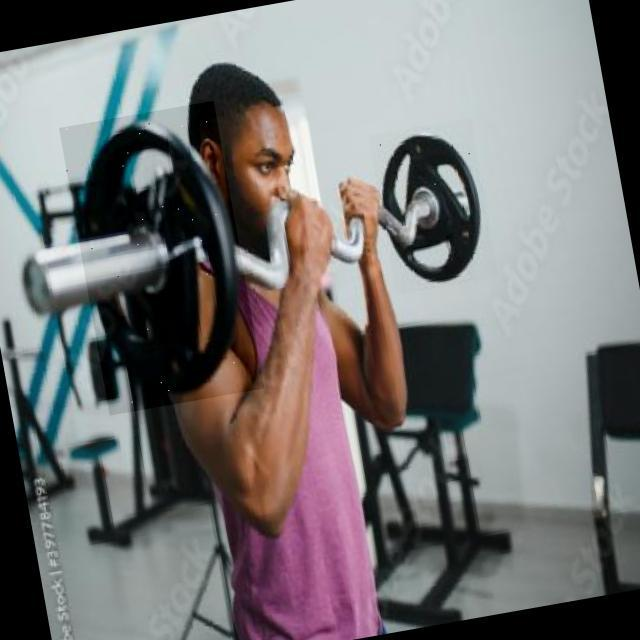barbell: (60, 101, 265, 416), (369, 118, 500, 296)
